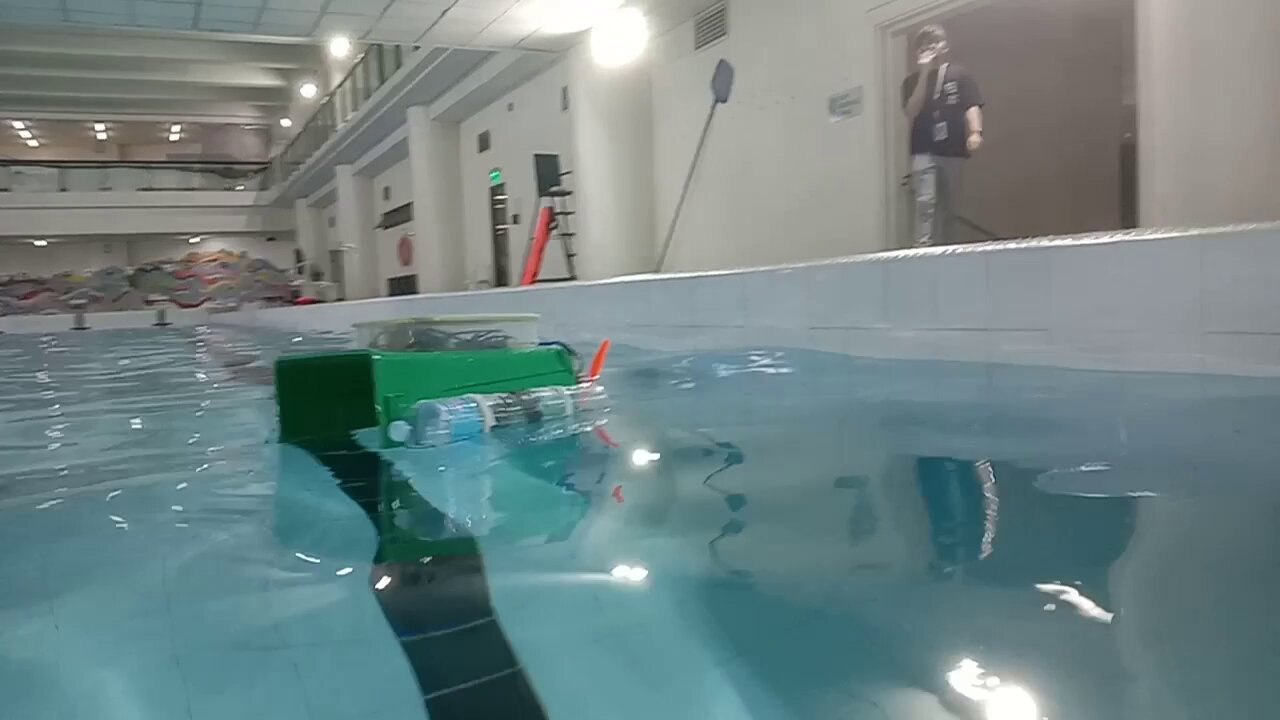drone: (274, 313, 610, 440)
